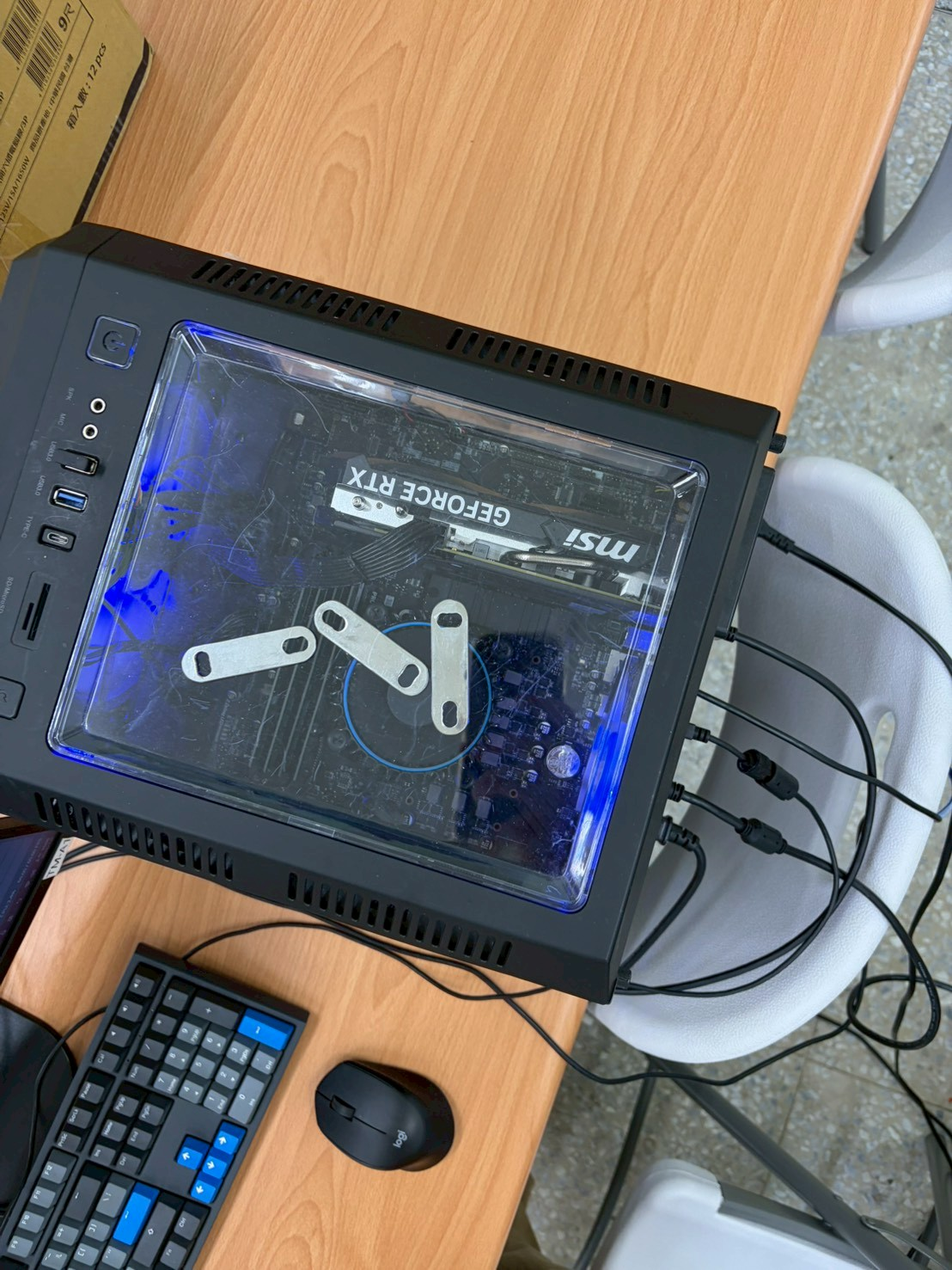Fe: (310, 588, 425, 700), (179, 616, 312, 698), (418, 757, 571, 819)
